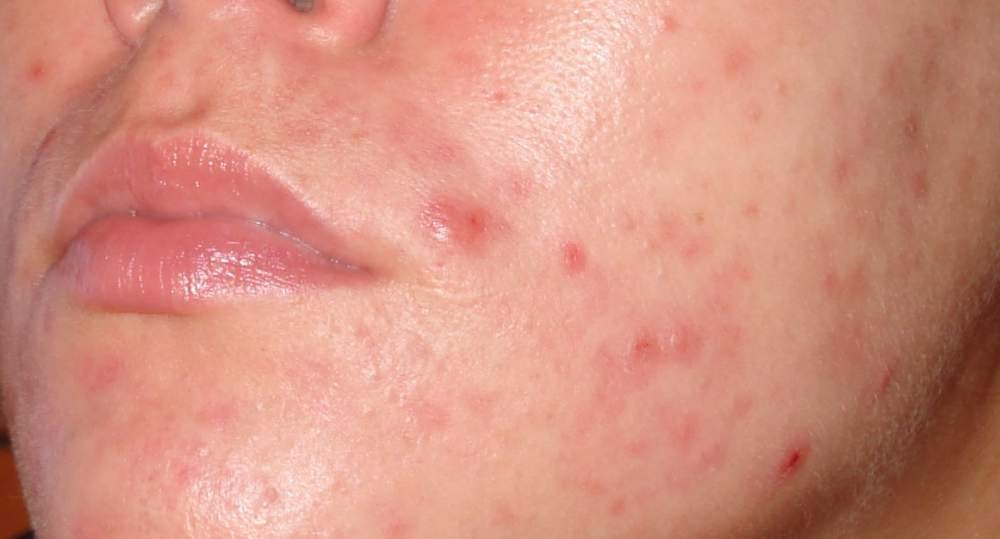Acne: (260, 91, 901, 482)
